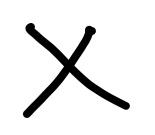mult: (23, 23, 130, 118)
